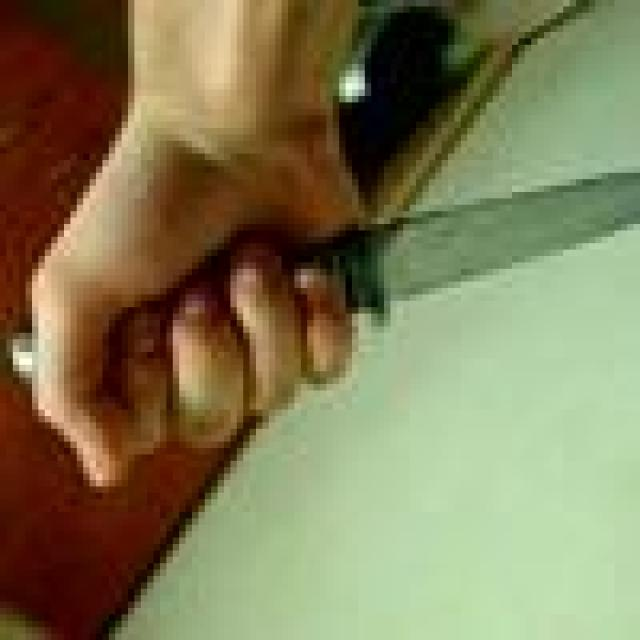knife: (360, 181, 640, 319)
